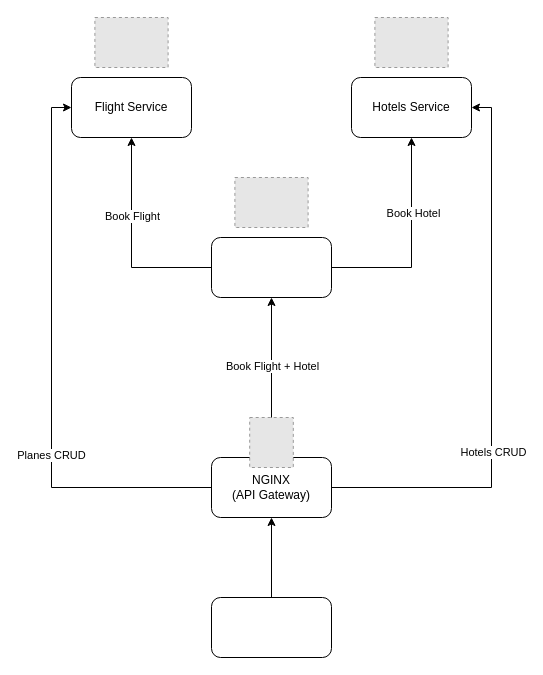
Some shapes in this 543 by 675 pixel diagram are drawn without their labels. Grey dashed boxes stand in for pictures. Each missing label, with the centre of its shape:
"Booking Service (SAGA Orchestrator)" goes at (x=271, y=267).
"Web App" goes at (x=271, y=627).
